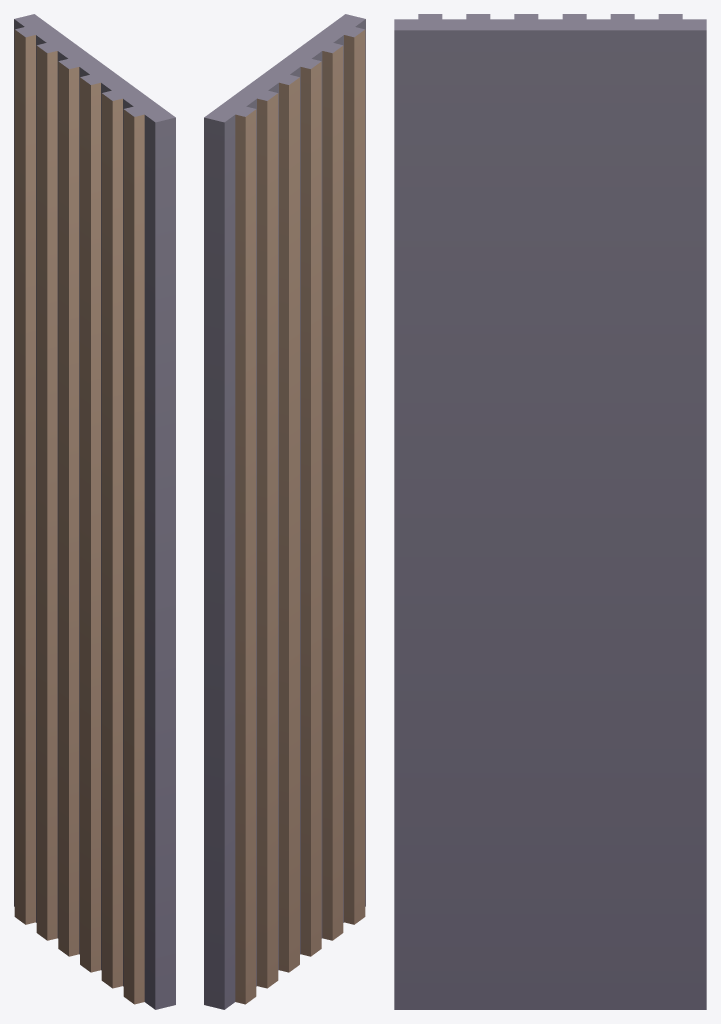
File: wood-panel-thin-tall (%wall).glb
3 views of the same model, side by side, from view 1: azimuth 30°, elevation 25°; view 2: azimuth 150°, elevation 25°; view 3: azimuth 270°, elevation 25° (orthographic). The views are drawn at different scales.
Visible parts, largest first — view 1: wood-panel-thin-tall (%wall); view 2: wood-panel-thin-tall (%wall); view 3: wood-panel-thin-tall (%wall).
Part boxes in pixels (left/top/right/bottom): wood-panel-thin-tall (%wall): left=14, top=14, right=175, bottom=1009; wood-panel-thin-tall (%wall): left=204, top=14, right=365, bottom=1009; wood-panel-thin-tall (%wall): left=394, top=14, right=706, bottom=1009.
Size of the model in its own units: 0.075 by 2.08 by 0.6.
